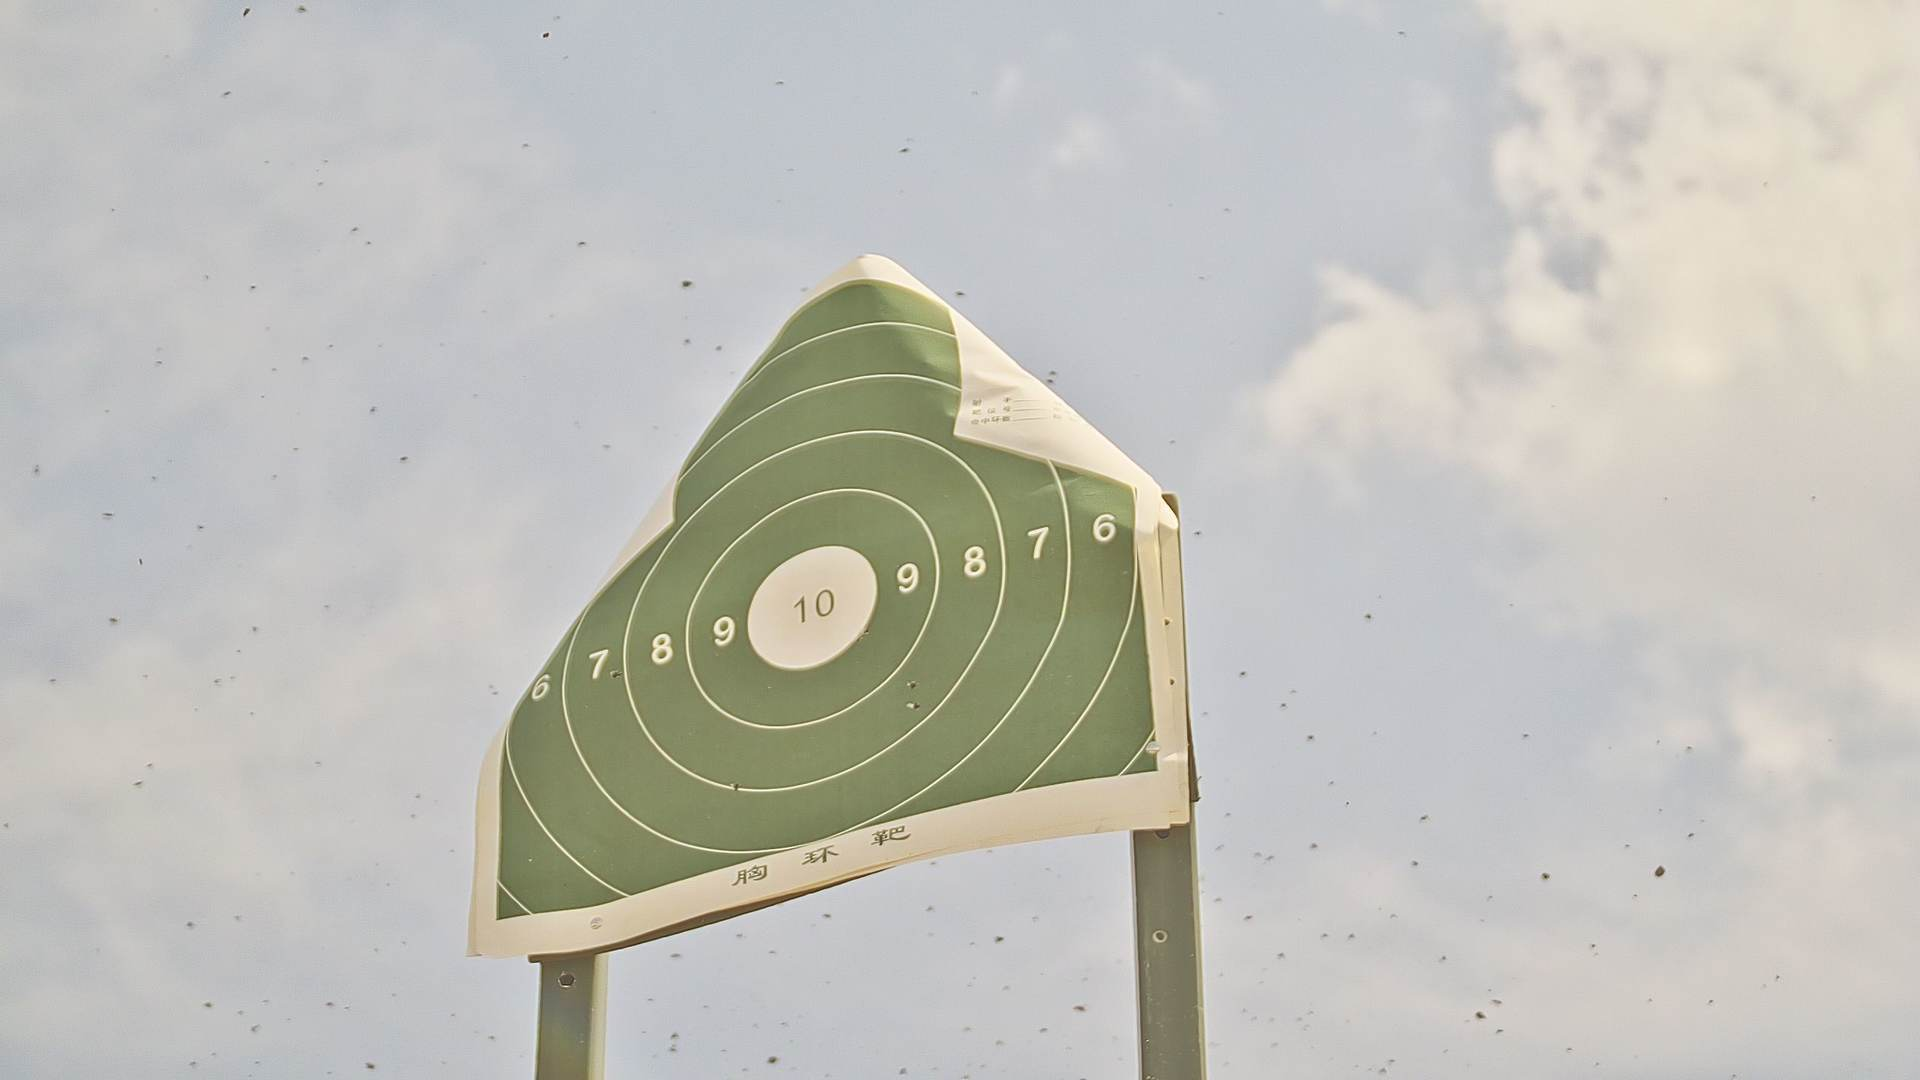hole: (906, 698, 920, 712), (906, 679, 919, 688), (731, 781, 740, 790), (611, 669, 621, 676), (864, 626, 872, 634)
kernel: (808, 605, 812, 611)
target: (493, 284, 1162, 924)
ten: (744, 545, 876, 671)
